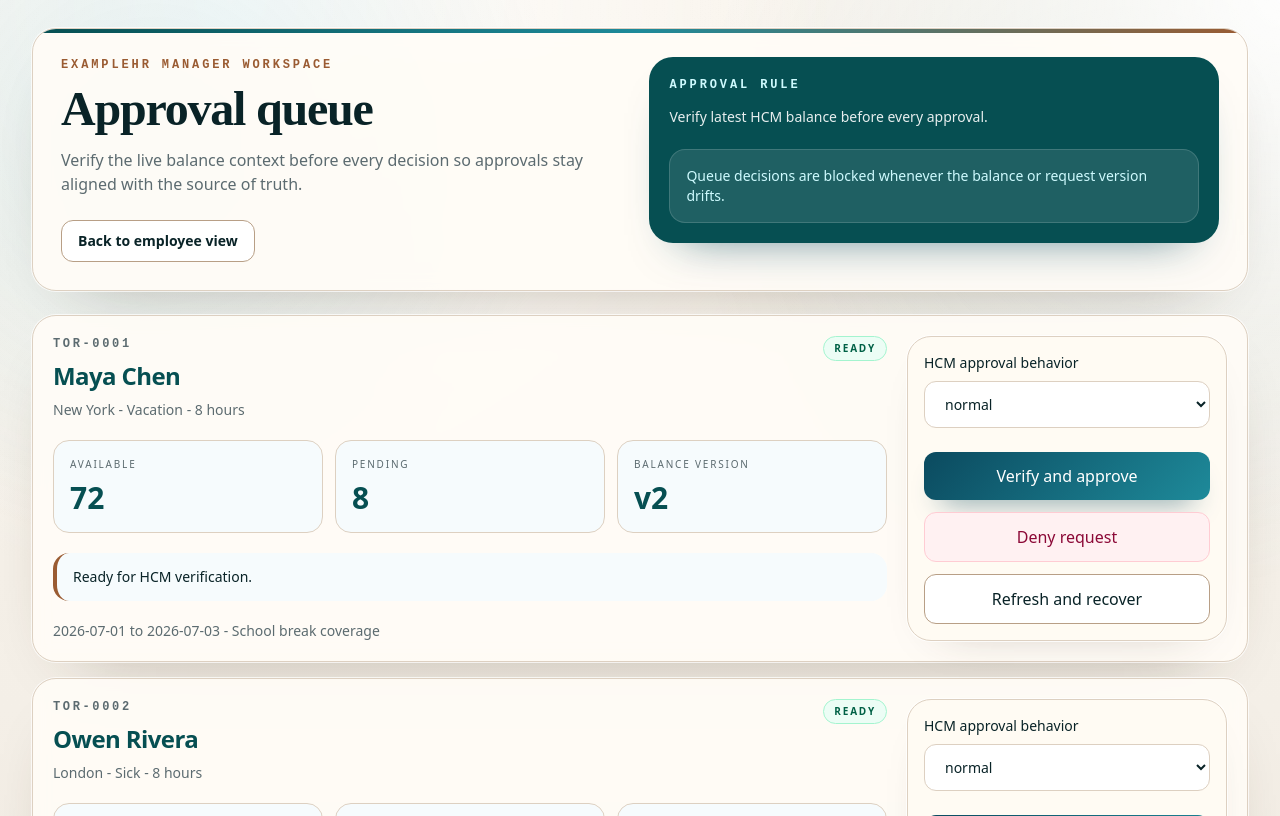
ManagerView HCM interactions › shows a recoverable conflict UI when HCM rejects the approval write
This screenshot has width=1280, height=816.
Select "hcm-conflict" in the dropdown labelled "HCM approval behavior" in the row of "Vacation": (1067, 404) [924, 381, 1210, 428]
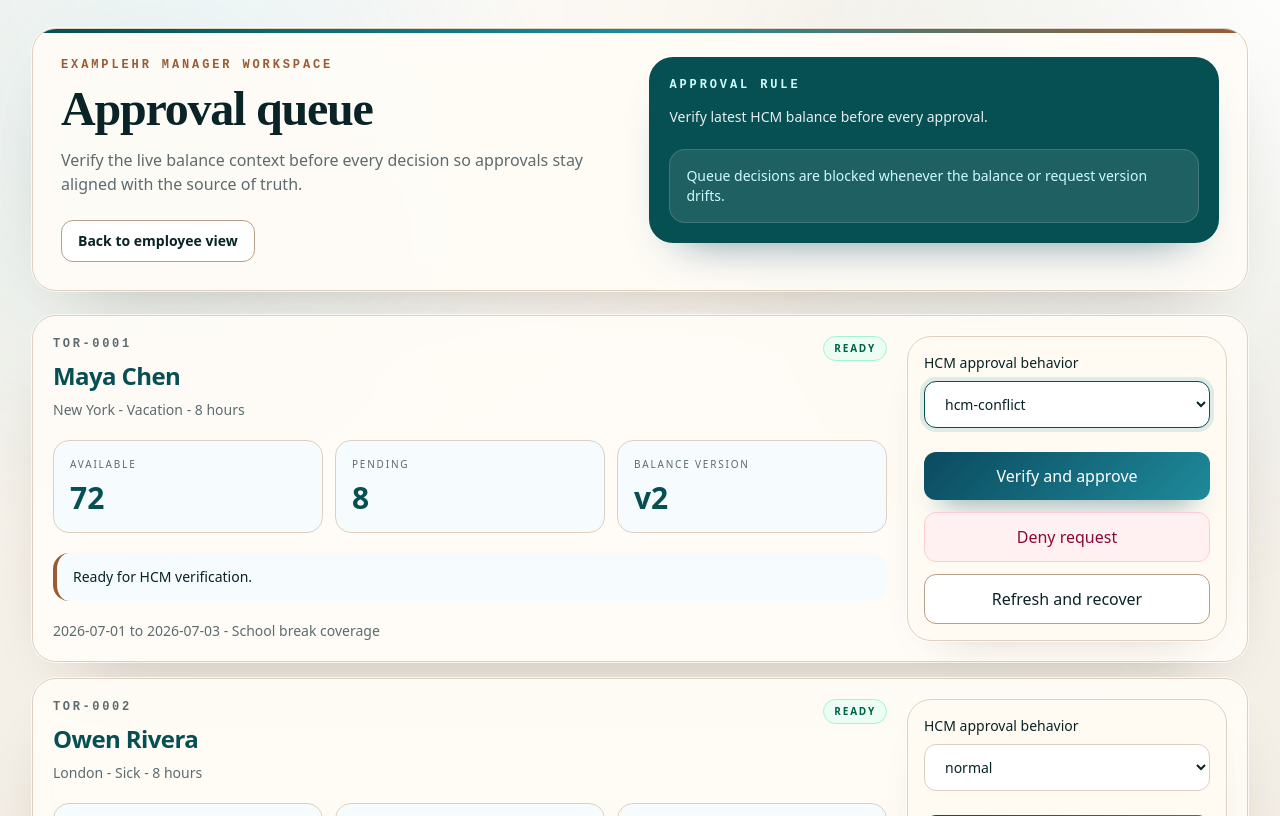
Click the button "Verify and approve" in the row of "72": click(1067, 476) [924, 452, 1210, 500]
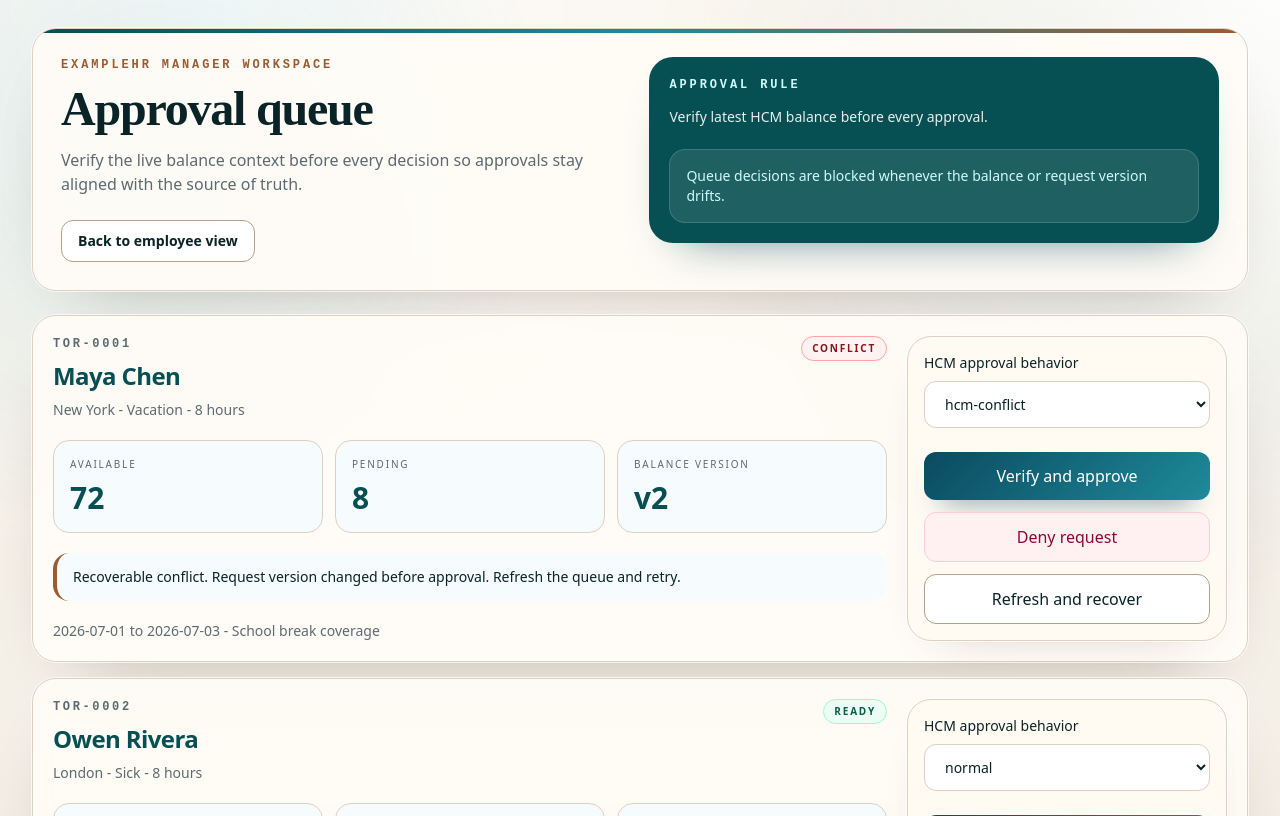
expect the text "Recoverable conflict. Request version changed before approval. Refresh the queue and retry." is shown: met, box [73, 567, 681, 586]
expect the text "conflict" is shown: met, box [801, 336, 887, 361]
